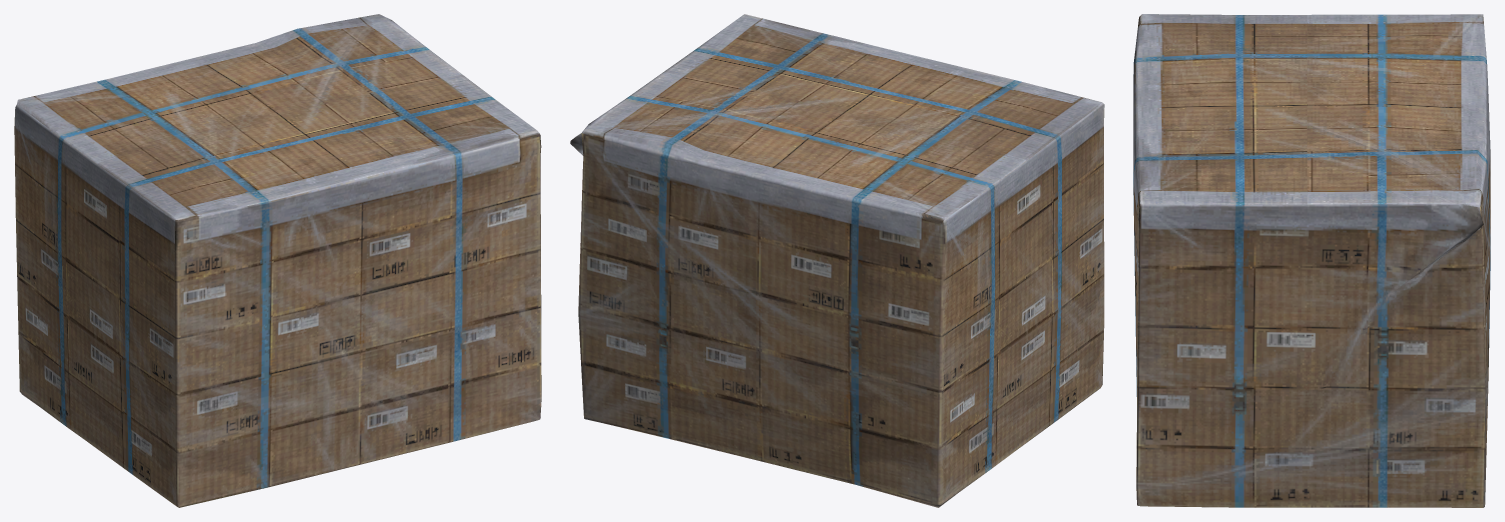
The model's file is 075_vinylbox04a.fbx.
3 views of the same model, side by side, from view 1: azimuth 30°, elevation 25°; view 2: azimuth 150°, elevation 25°; view 3: azimuth 270°, elevation 25° (orthographic). The views are drawn at different scales.
Parts seen in each view (by area): view 1: LOD_1_Group_0_Sub_1__sm36_075_Vinylbox04A_A_Mat; view 2: LOD_1_Group_0_Sub_1__sm36_075_Vinylbox04A_A_Mat; view 3: LOD_1_Group_0_Sub_1__sm36_075_Vinylbox04A_A_Mat.
Part boxes in pixels (x1=…): LOD_1_Group_0_Sub_1__sm36_075_Vinylbox04A_A_Mat: x1=14, y1=14, x2=541, y2=507; LOD_1_Group_0_Sub_1__sm36_075_Vinylbox04A_A_Mat: x1=570, y1=14, x2=1104, y2=507; LOD_1_Group_0_Sub_1__sm36_075_Vinylbox04A_A_Mat: x1=1133, y1=14, x2=1490, y2=507.
Bounding box in the file's own units: 0.9809 × 0.7406 × 0.7541.
